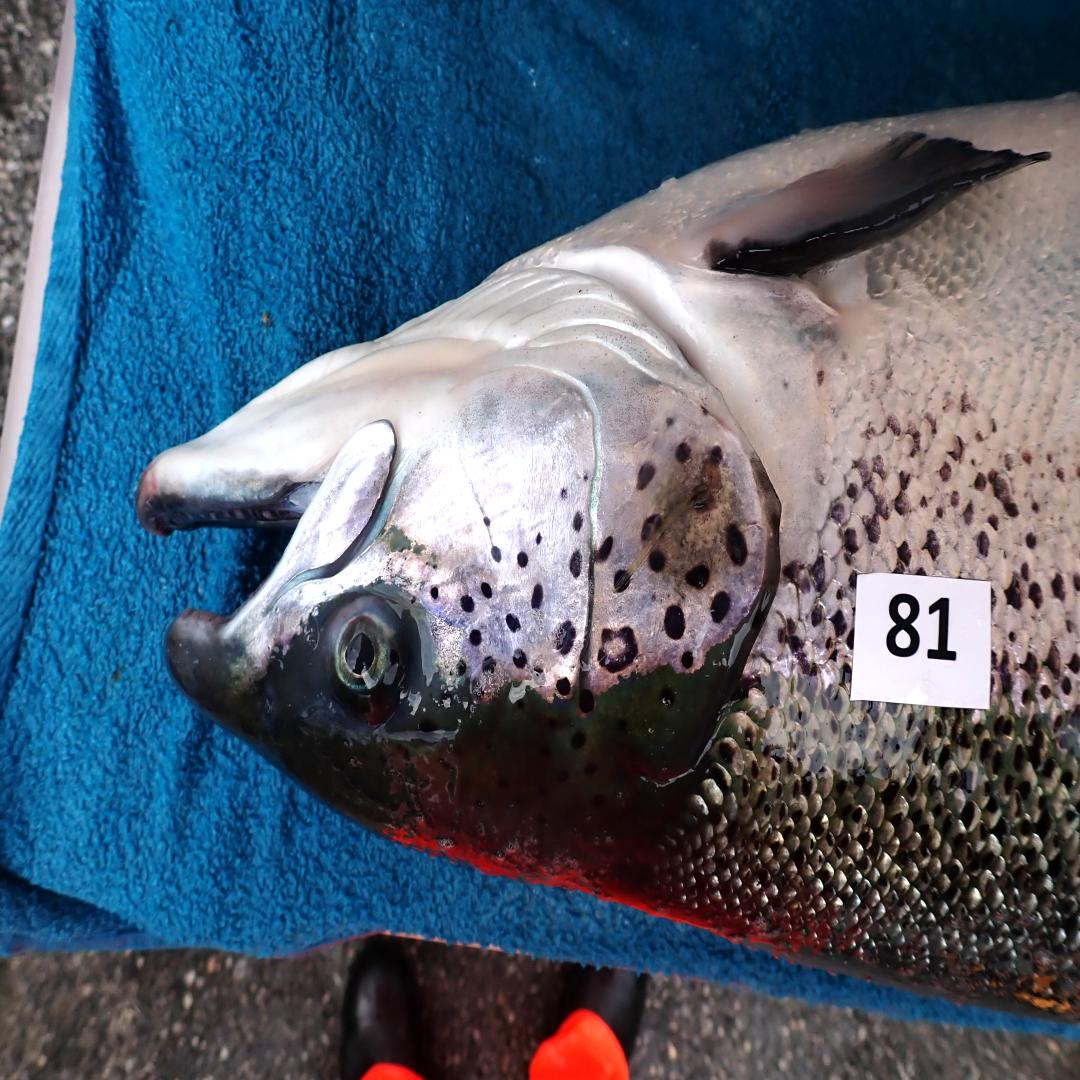roi: (395, 251, 778, 700)
